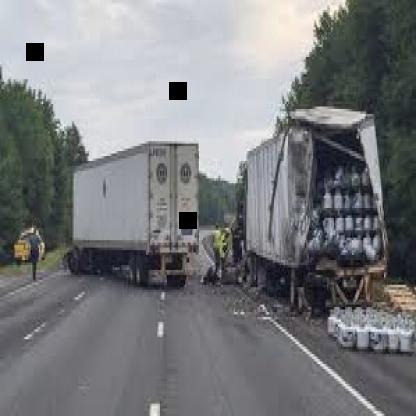accident: (229, 107, 416, 350), (67, 145, 211, 296)
